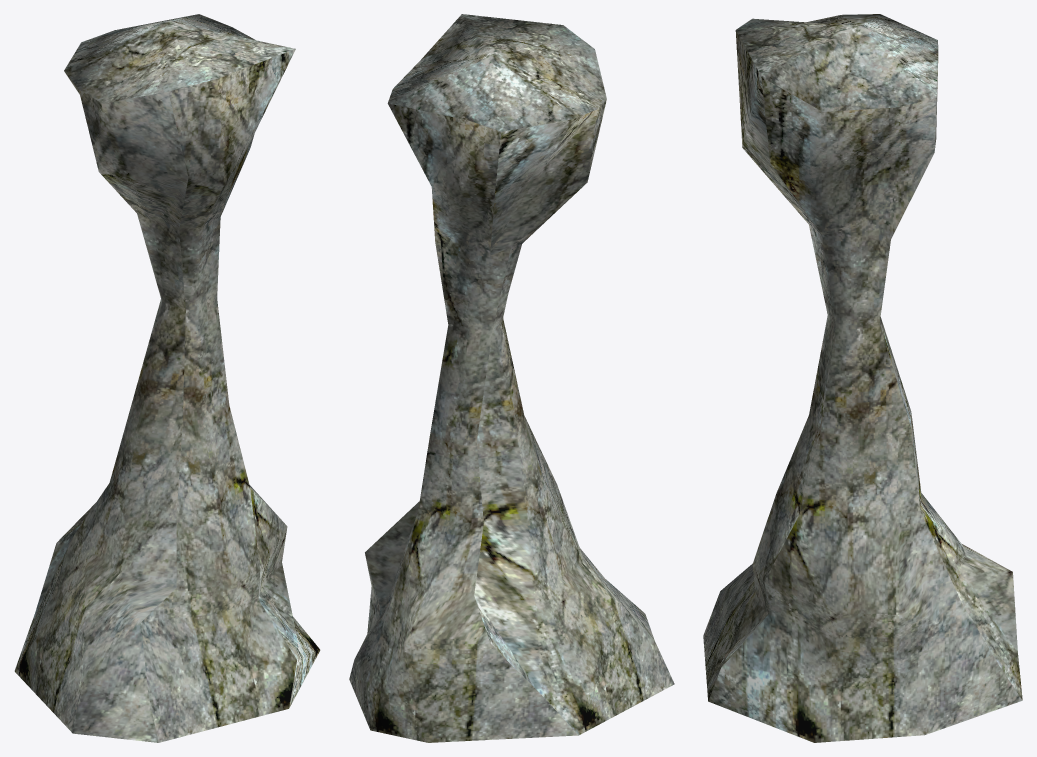
File: general_obj_bigstone04.fbx
3 renders of one model, left to right at view 1: azimuth 30°, elevation 25°; view 2: azimuth 150°, elevation 25°; view 3: azimuth 270°, elevation 25°, orthographic. The views are drawn at different scales.
Parts seen in each view (by area): view 1: Sphere01; view 2: Sphere01; view 3: Sphere01.
Boxes of the visible parts, x1=… form: Sphere01: x1=14, y1=14, x2=320, y2=742; Sphere01: x1=349, y1=14, x2=674, y2=742; Sphere01: x1=703, y1=14, x2=1022, y2=742.
Bounding box in the file's own units: 16.67 × 37.77 × 16.76.
